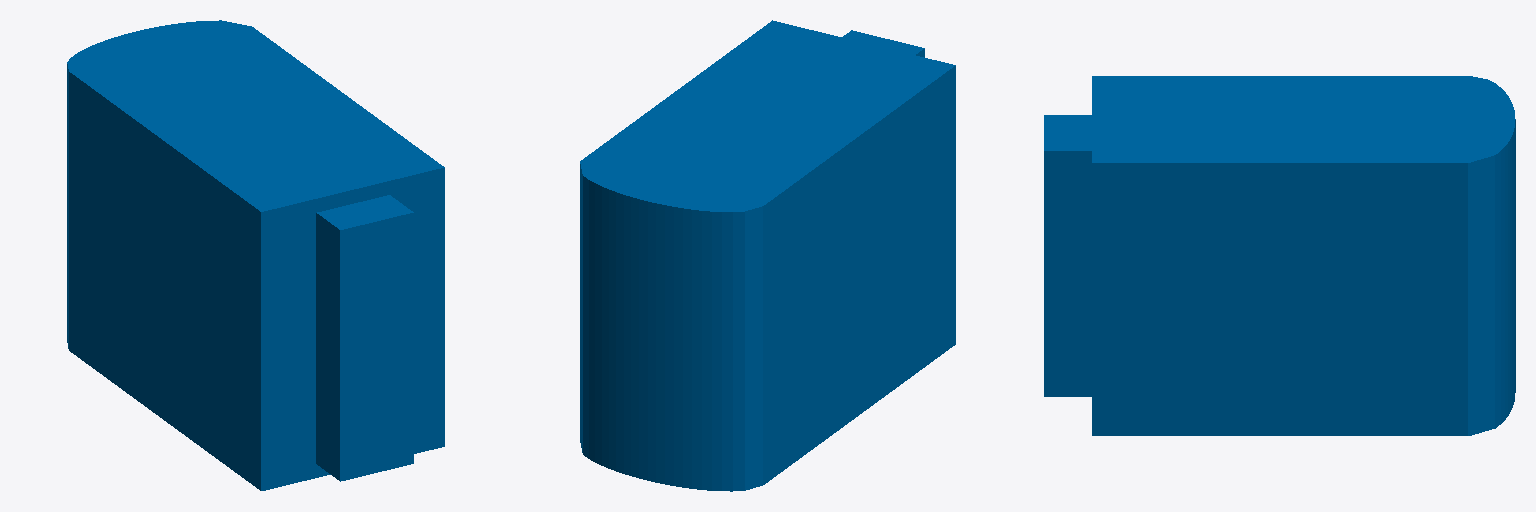
The robot description file, URDF, robot "3v3_50.0.25.0.25.0_32.5.27.5.40.0_0.925.1_63":
<?xml version="1.0" ?>
<robot name="3v3_50.0.25.0.25.0_32.5.27.5.40.0_0.925.1_63">

    <link name="palm">
        <visual>
            <origin rpy="0 0 0" xyz="0 0 0"/>
            <geometry>
                <mesh filename="obj_files/palm.obj" scale="1 1 1"/>
            </geometry>
        </visual>
        <collision>
            <geometry>
                <mesh filename="obj_files/palm_collision.obj" scale="1 1 1"/>
            </geometry>
        </collision>
    </link>

    <link name="finger0_segment0">
        <visual>
            <origin rpy="0 0 0" xyz="0 0 0"/>
            <geometry>
                <mesh filename="obj_files/finger0_segment0.obj" scale="1 1 1"/>
            </geometry>
        </visual>
        <collision>
            <geometry>
                <mesh filename="obj_files/finger0_segment0_collision.obj" scale="1 1 1"/>
            </geometry>
        </collision>
    </link>

    <joint name="finger0_segment0_joint" type="revolute">
        <parent link="palm"/>
        <child link="finger0_segment0"/>
        <origin rpy="0 0 0" xyz="0.0315 0 0.0"/>
        <axis xyz="0 0 1"/>
        <limit effort="1000.0" lower="-3.14" upper="3.14" velocity="0.5"/>
    </joint>

    <link name="finger0_segment1">
        <visual>
            <origin rpy="0 0 0" xyz="0 0 0"/>
            <geometry>
                <mesh filename="obj_files/finger0_segment1.obj" scale="1 1 1"/>
            </geometry>
        </visual>
        <collision>
            <geometry>
                <mesh filename="obj_files/finger0_segment1_collision.obj" scale="1 1 1"/>
            </geometry>
        </collision>
    </link>

    <joint name="finger0_segment1_joint" type="revolute">
        <parent link="finger0_segment0"/>
        <child link="finger0_segment1"/>
        <origin rpy="0 0 0" xyz="0 0.07480519480519479 0"/>
        <axis xyz="0 0 1"/>
        <limit effort="1000.0" lower="-3.14" upper="3.14" velocity="0.5"/>
    </joint>

    <link name="finger0_segment2">
        <visual>
            <origin rpy="0 0 0" xyz="0 0 0"/>
            <geometry>
                <mesh filename="obj_files/finger0_segment2.obj" scale="1 1 1"/>
            </geometry>
        </visual>
        <collision>
            <geometry>
                <mesh filename="obj_files/finger0_segment2_collision.obj" scale="1 1 1"/>
            </geometry>
        </collision>
    </link>

    <joint name="finger0_segment2_joint" type="revolute">
        <parent link="finger0_segment1"/>
        <child link="finger0_segment2"/>
        <origin rpy="0 0 0" xyz="0 0.037402597402597396 0"/>
        <axis xyz="0 0 1"/>
        <limit effort="1000.0" lower="-3.14" upper="3.14" velocity="0.5"/>
    </joint>

    <link name="finger1_segment0">
        <visual>
            <origin rpy="0 0 0" xyz="0 0 0"/>
            <geometry>
                <mesh filename="obj_files/finger1_segment0.obj" scale="1 1 1"/>
            </geometry>
        </visual>
        <collision>
            <geometry>
                <mesh filename="obj_files/finger1_segment0_collision.obj" scale="1 1 1"/>
            </geometry>
        </collision>
    </link>

    <joint name="finger1_segment0_joint" type="revolute">
        <parent link="palm"/>
        <child link="finger1_segment0"/>
        <origin rpy="0 0 0" xyz="-0.0315 0 3.8576374173141625e-18"/>
        <axis xyz="0 0 1"/>
        <limit effort="1000.0" lower="-3.14" upper="3.14" velocity="0.5"/>
    </joint>

    <link name="finger1_segment1">
        <visual>
            <origin rpy="0 0 0" xyz="0 0 0"/>
            <geometry>
                <mesh filename="obj_files/finger1_segment1.obj" scale="1 1 1"/>
            </geometry>
        </visual>
        <collision>
            <geometry>
                <mesh filename="obj_files/finger1_segment1_collision.obj" scale="1 1 1"/>
            </geometry>
        </collision>
    </link>

    <joint name="finger1_segment1_joint" type="revolute">
        <parent link="finger1_segment0"/>
        <child link="finger1_segment1"/>
        <origin rpy="0 0 0" xyz="0 0.04497662337662337 0"/>
        <axis xyz="0 0 1"/>
        <limit effort="1000.0" lower="-3.14" upper="3.14" velocity="0.5"/>
    </joint>

    <link name="finger1_segment2">
        <visual>
            <origin rpy="0 0 0" xyz="0 0 0"/>
            <geometry>
                <mesh filename="obj_files/finger1_segment2.obj" scale="1 1 1"/>
            </geometry>
        </visual>
        <collision>
            <geometry>
                <mesh filename="obj_files/finger1_segment2_collision.obj" scale="1 1 1"/>
            </geometry>
        </collision>
    </link>

    <joint name="finger1_segment2_joint" type="revolute">
        <parent link="finger1_segment1"/>
        <child link="finger1_segment2"/>
        <origin rpy="0 0 0" xyz="0 0.03805714285714285 0"/>
        <axis xyz="0 0 1"/>
        <limit effort="1000.0" lower="-3.14" upper="3.14" velocity="0.5"/>
    </joint>

</robot>

--- Facts derived from the render (not from the file) ---
Views: 3 orthographic renders of the robot side by side, from view 1: azimuth 30°, elevation 25°; view 2: azimuth 150°, elevation 25°; view 3: azimuth 270°, elevation 25°.
Model 3v3_50.0.25.0.25.0_32.5.27.5.40.0_0.925.1_63 with 7 links and 6 joints (6 revolute), rooted at palm, posed all joints at 0.
Links seen in each view (by area): view 1: finger1_segment0; view 2: finger1_segment0; view 3: finger1_segment0.
Boxes of the visible links, box(x1,y1,x2,y2) form: finger1_segment0: box(67, 20, 444, 490); finger1_segment0: box(580, 20, 955, 491); finger1_segment0: box(1044, 76, 1515, 435).
Size in the robot's own frame: 0.022 by 0.05 by 0.032 metres.
1 mesh visuals loaded from 7 distinct referenced files (1 OBJ); not drawn: 6 (reference not matched to a file when rendering).